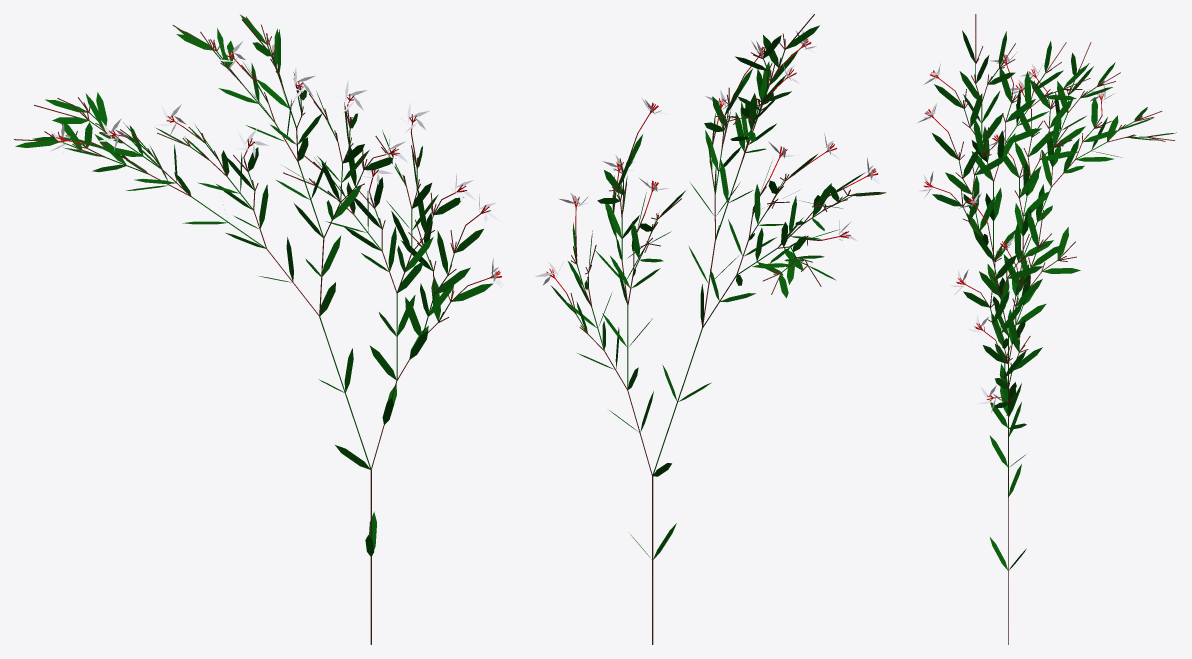
The model's file is Plant.FBX.
3 renders of one model, left to right at view 1: azimuth 30°, elevation 25°; view 2: azimuth 150°, elevation 25°; view 3: azimuth 270°, elevation 25°, orthographic. The views are drawn at different scales.
Parts seen in each view (by area): view 1: flower3.l; view 2: flower3.l; view 3: flower3.l.
Part boxes in pixels (x1,y1,x2,y2): flower3.l: [14, 14, 504, 644]; flower3.l: [535, 14, 886, 644]; flower3.l: [918, 14, 1176, 644].
Size of the model in its own units: 3969 by 6194 by 2573.
